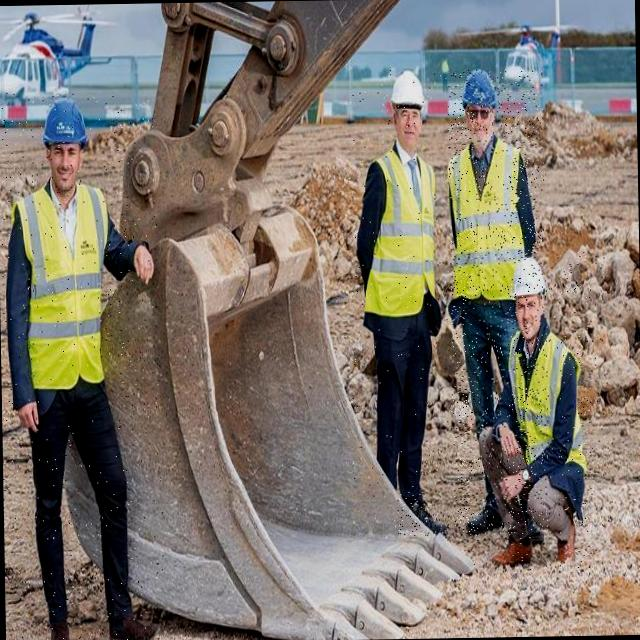boots: (396, 491, 451, 540), (489, 535, 534, 567), (108, 615, 159, 640), (41, 610, 79, 640), (466, 506, 506, 534), (556, 520, 578, 564)
helmet: (37, 94, 84, 147), (461, 68, 498, 108), (511, 255, 546, 297), (390, 69, 426, 109)
vest: (11, 180, 112, 390), (361, 149, 438, 316), (447, 138, 525, 302), (507, 328, 589, 474)
